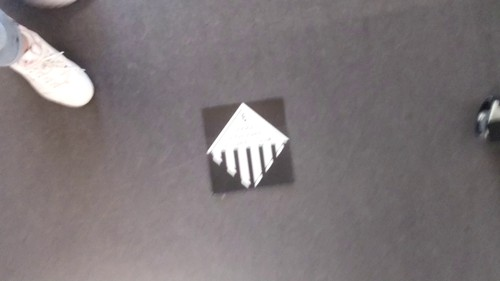misgoods: (205, 102, 296, 192)
